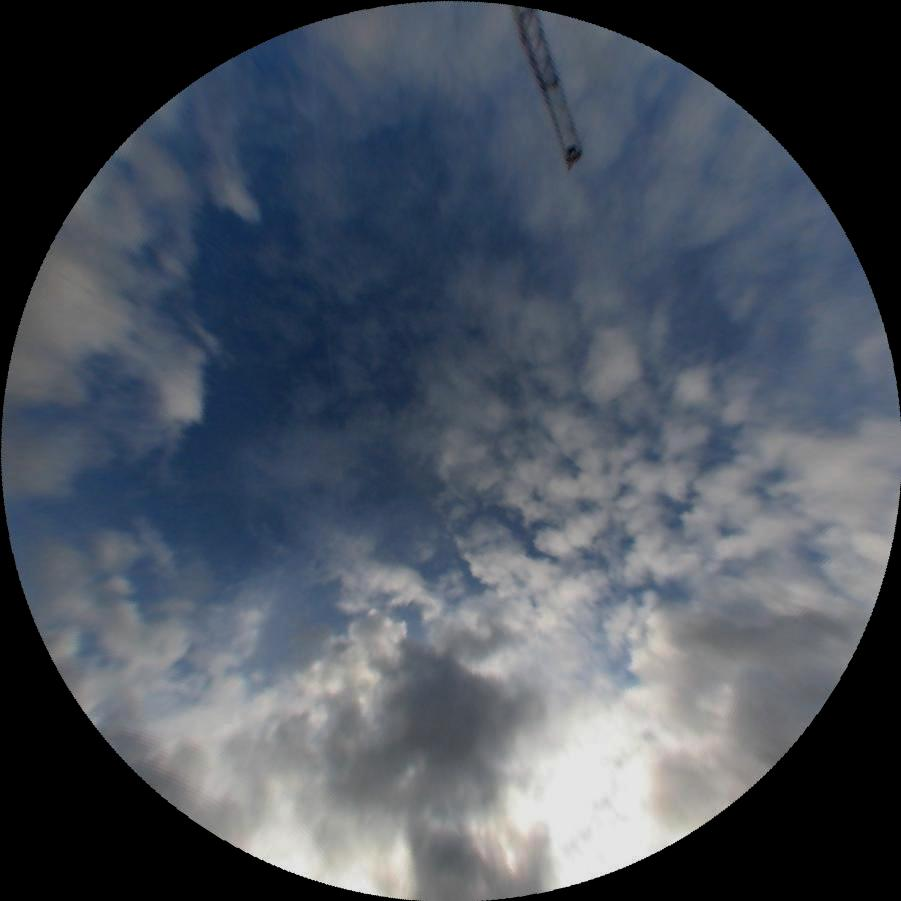contrail young: (305, 29, 344, 509)
